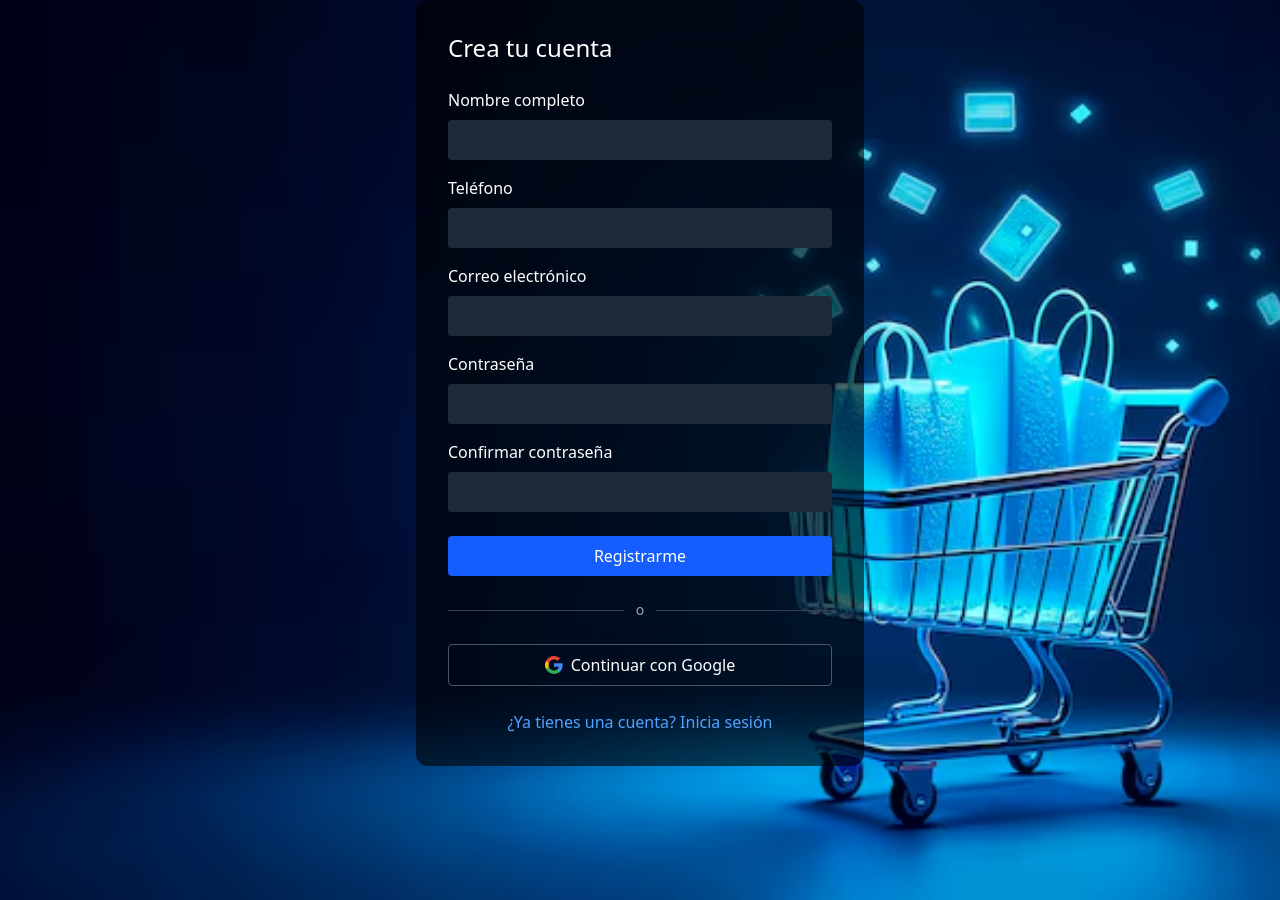
it: SignupPage › explains an email that's already registered
Type "Ana López" into the field labelled "Nombre completo" at (640, 140), box [448,120,832,160]
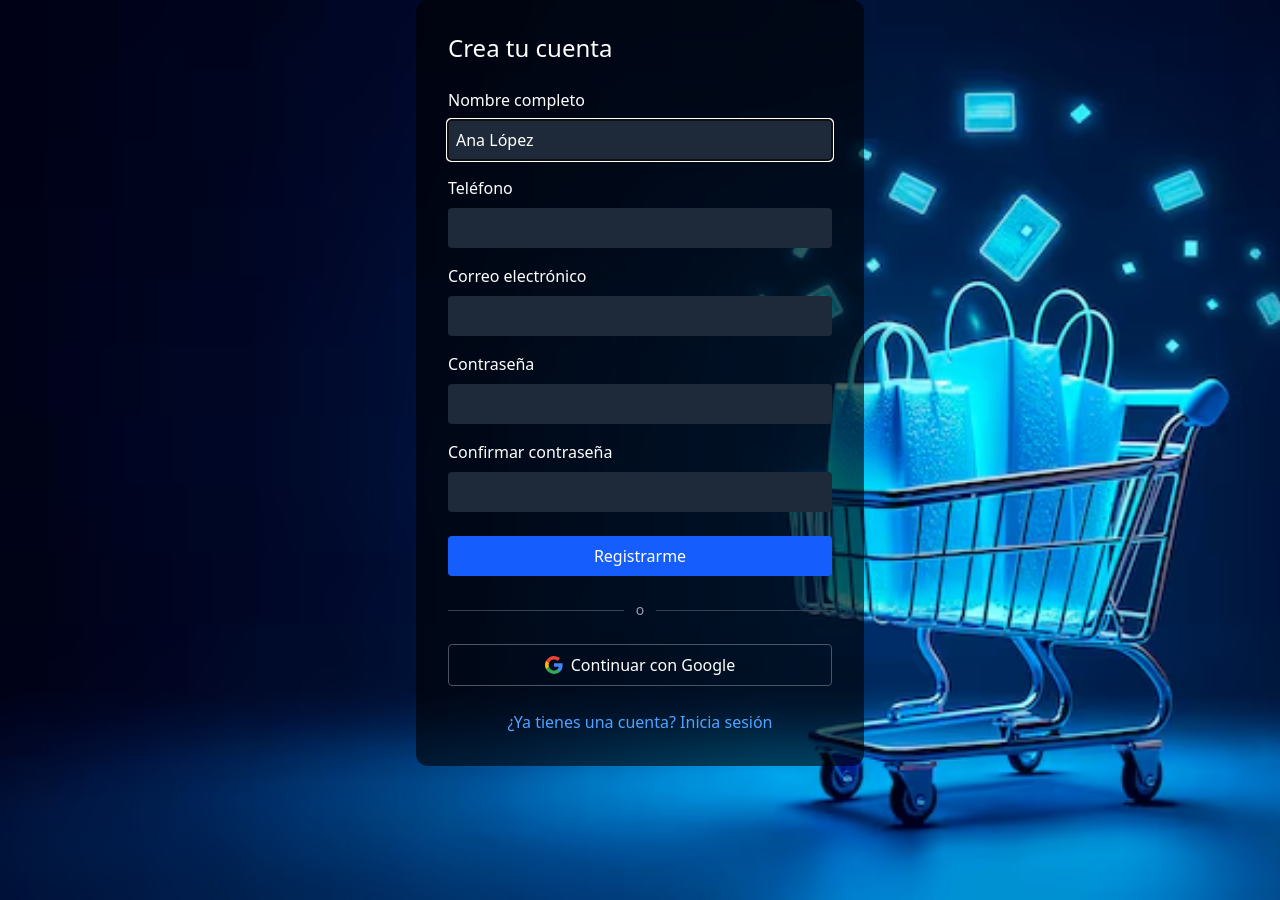
Type "5551234567" into the field labelled "Teléfono" at (640, 228), box [448,208,832,248]
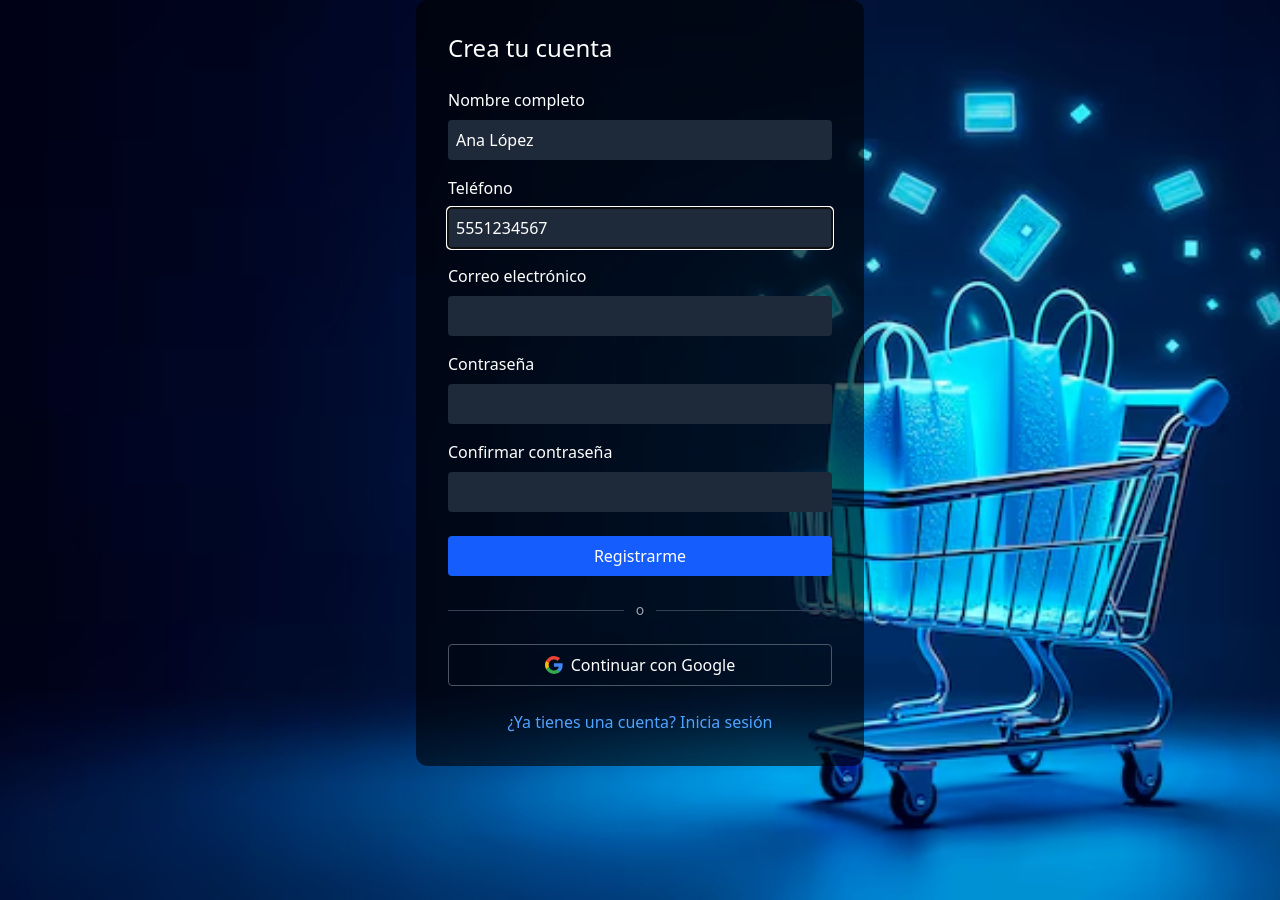
Type "ana@example.com" into the field labelled "Correo electrónico" at (640, 316), box [448,296,832,336]
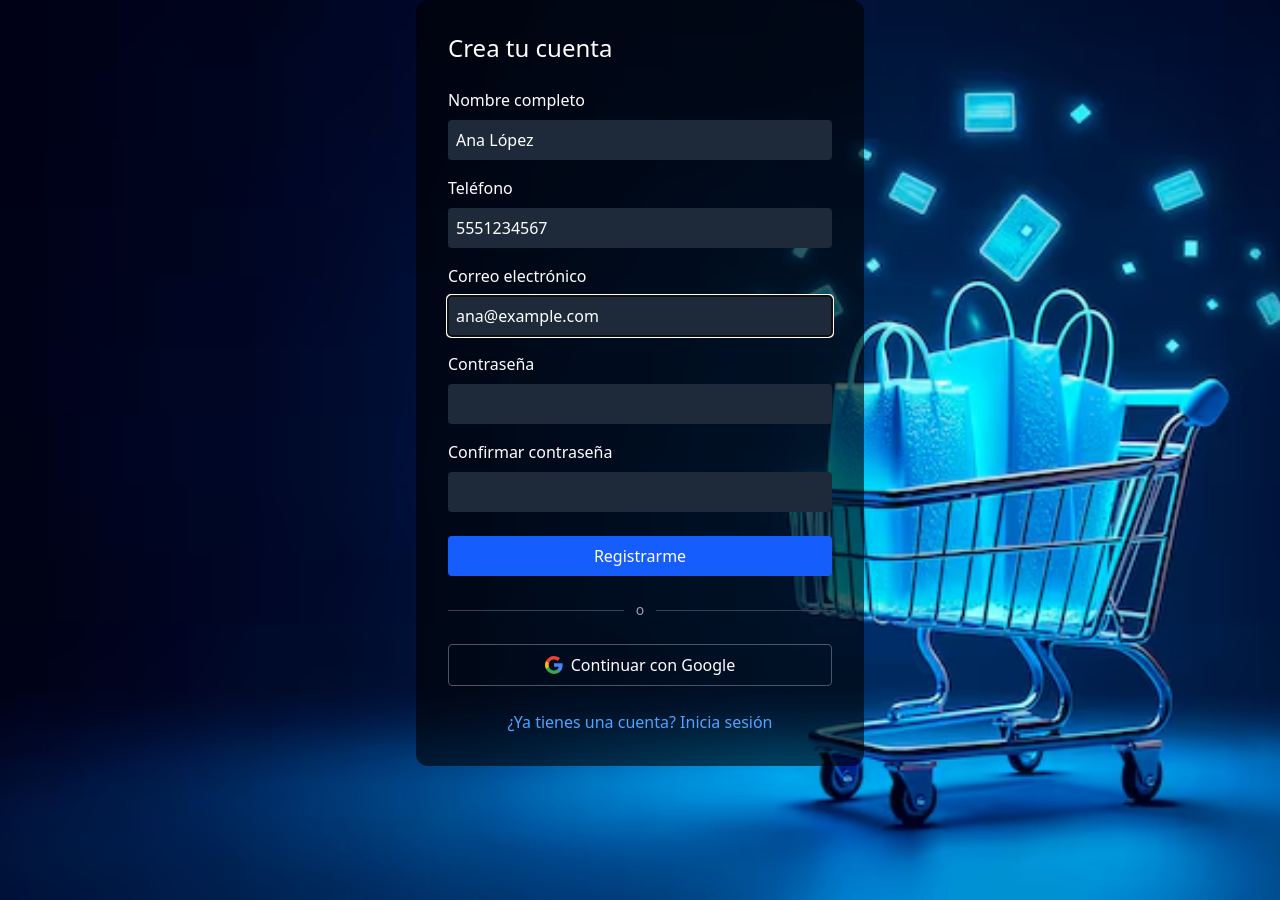
Type "Password123!" into the password field labelled "Contraseña" at (640, 404), box [448,384,832,424]
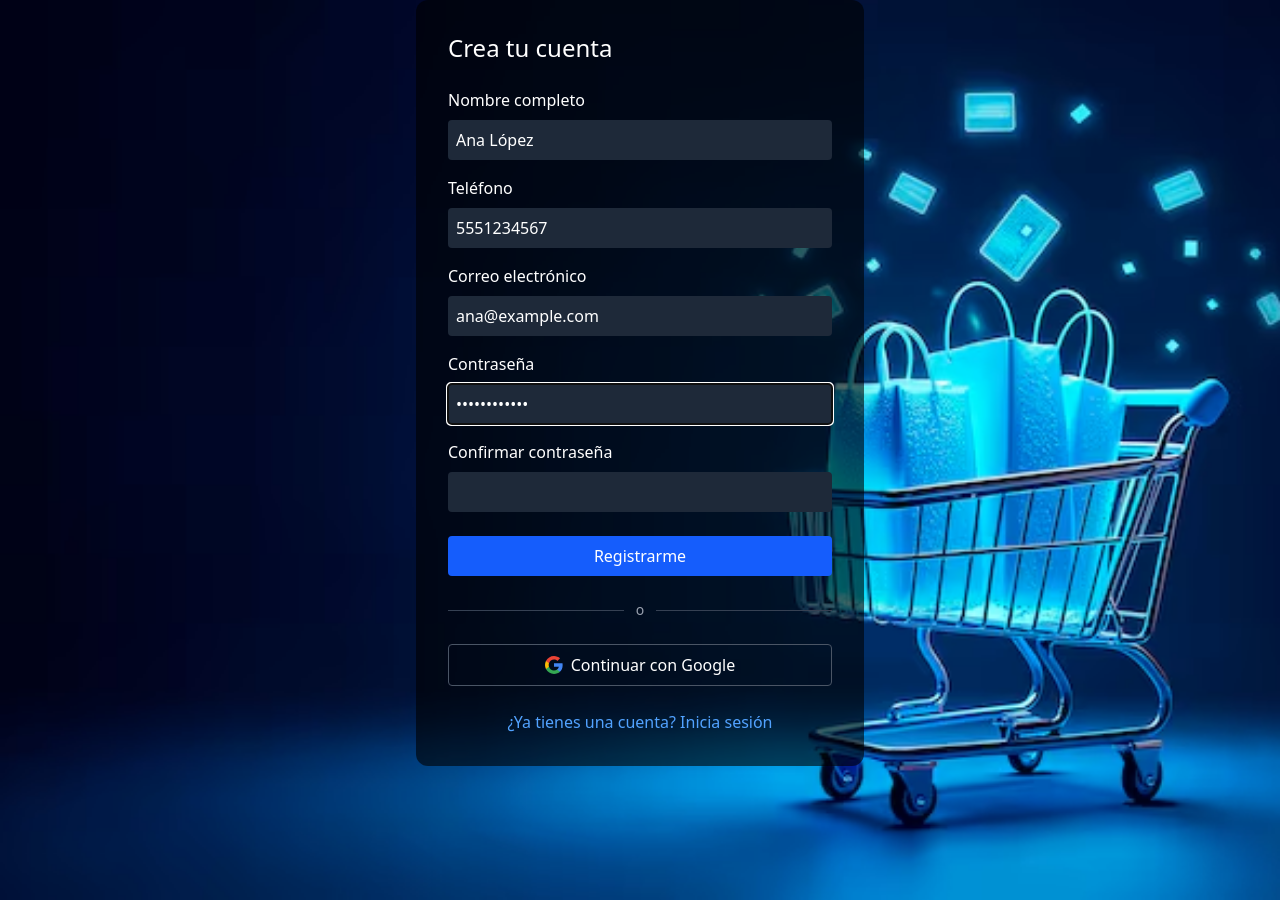
Type "Password123!" into the password field labelled "Confirmar contraseña" at (640, 492), box [448,472,832,512]
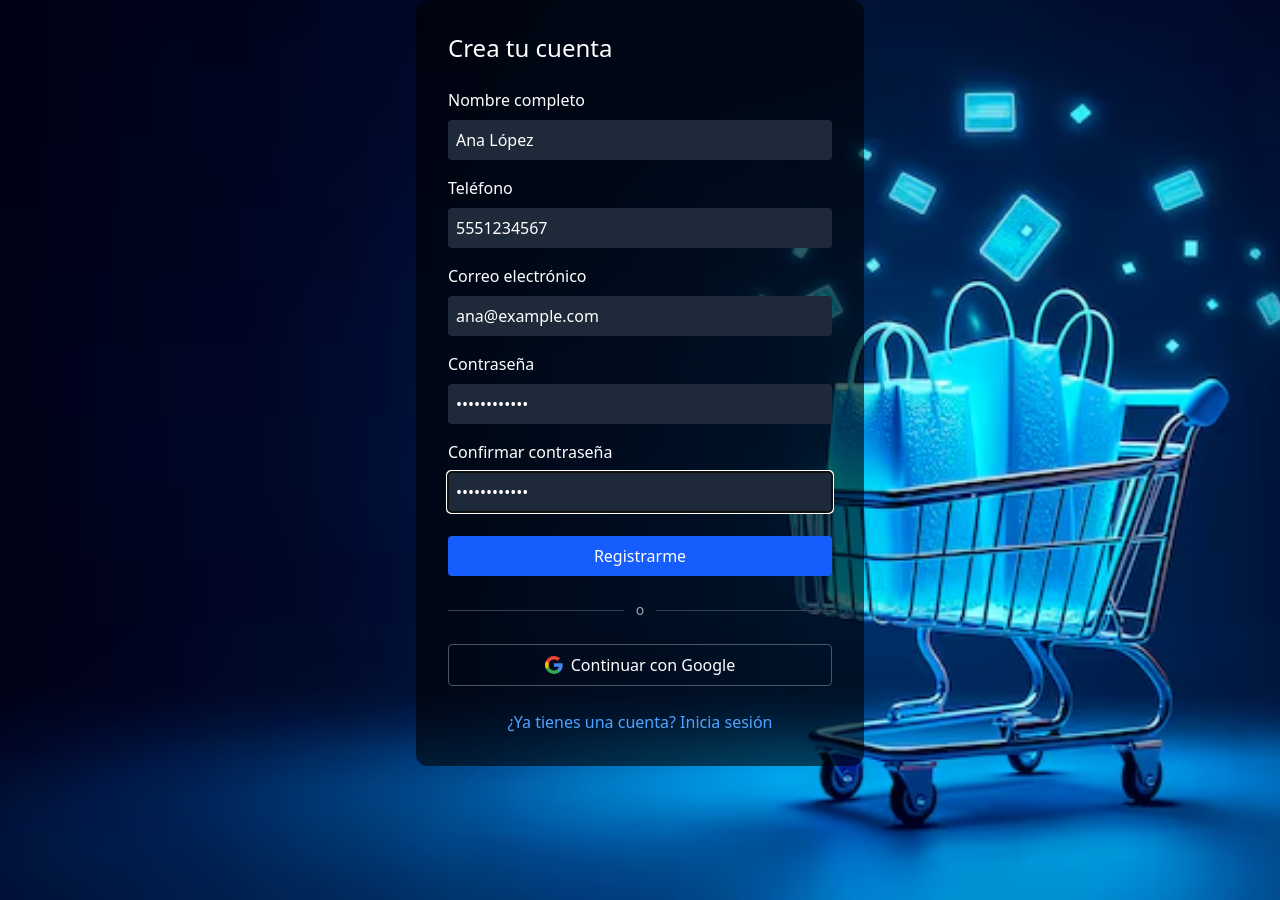
Click the button "Registrarme" at (640, 556), box [448,536,832,576]
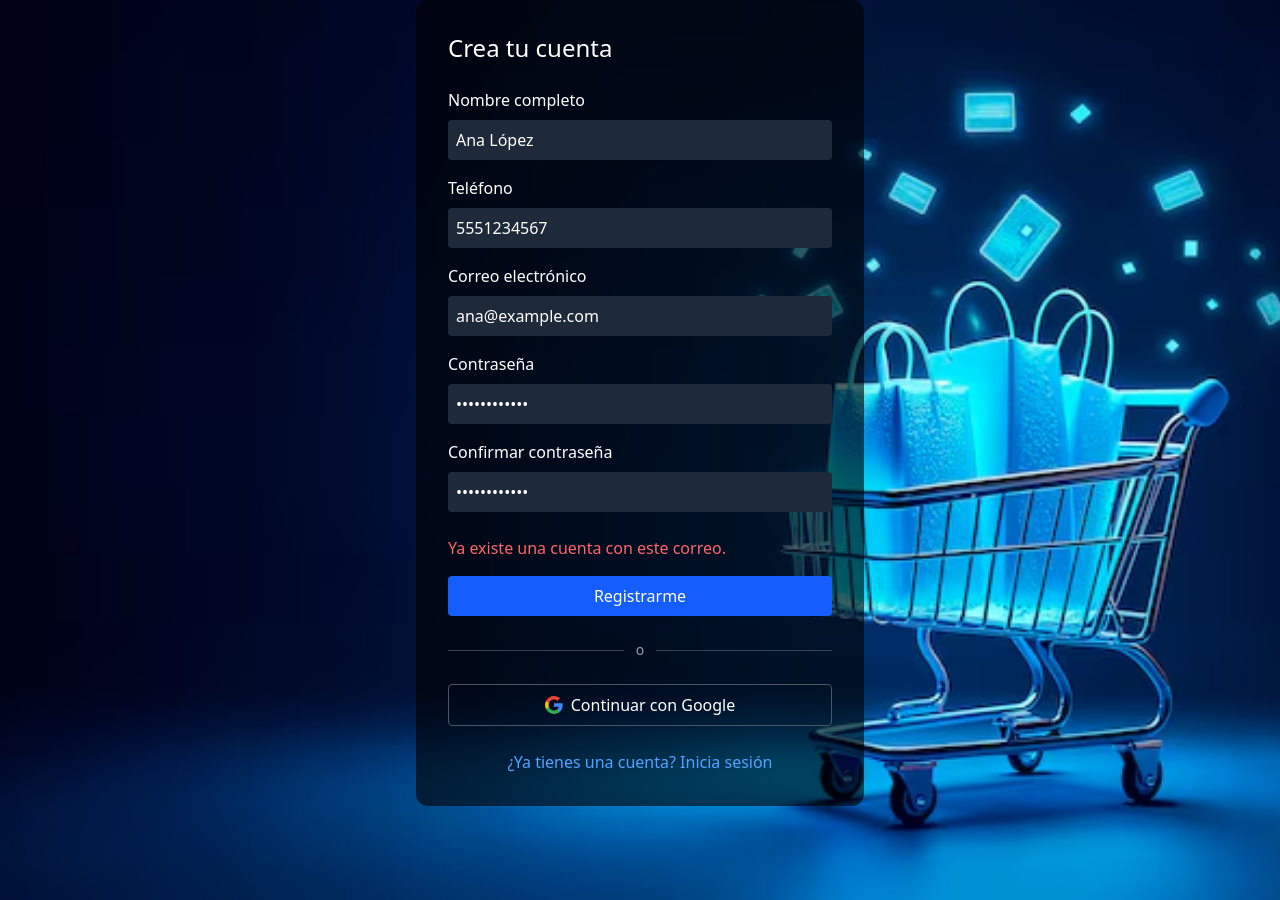
Expected: the text "Ya existe una cuenta con este correo." is shown, [448,537,726,559]
